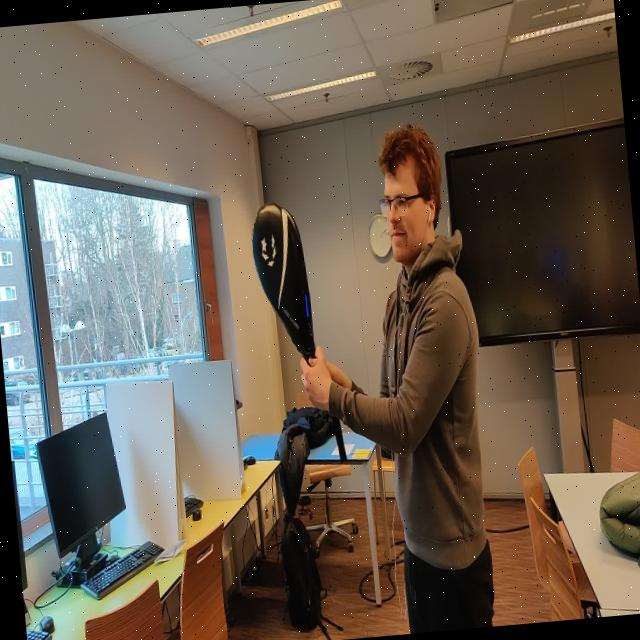paddle: (251, 202, 316, 361)
